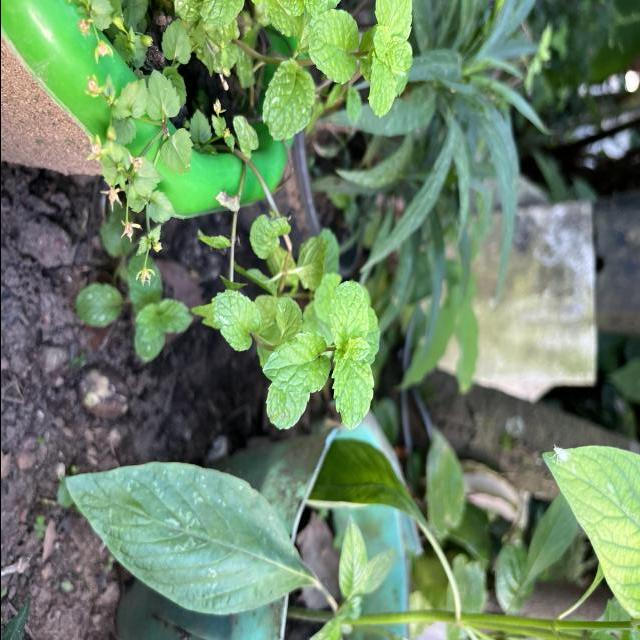Mentha spicata: (260, 330, 331, 397), (306, 8, 360, 86), (330, 358, 374, 430), (212, 288, 260, 352), (327, 280, 369, 352)
